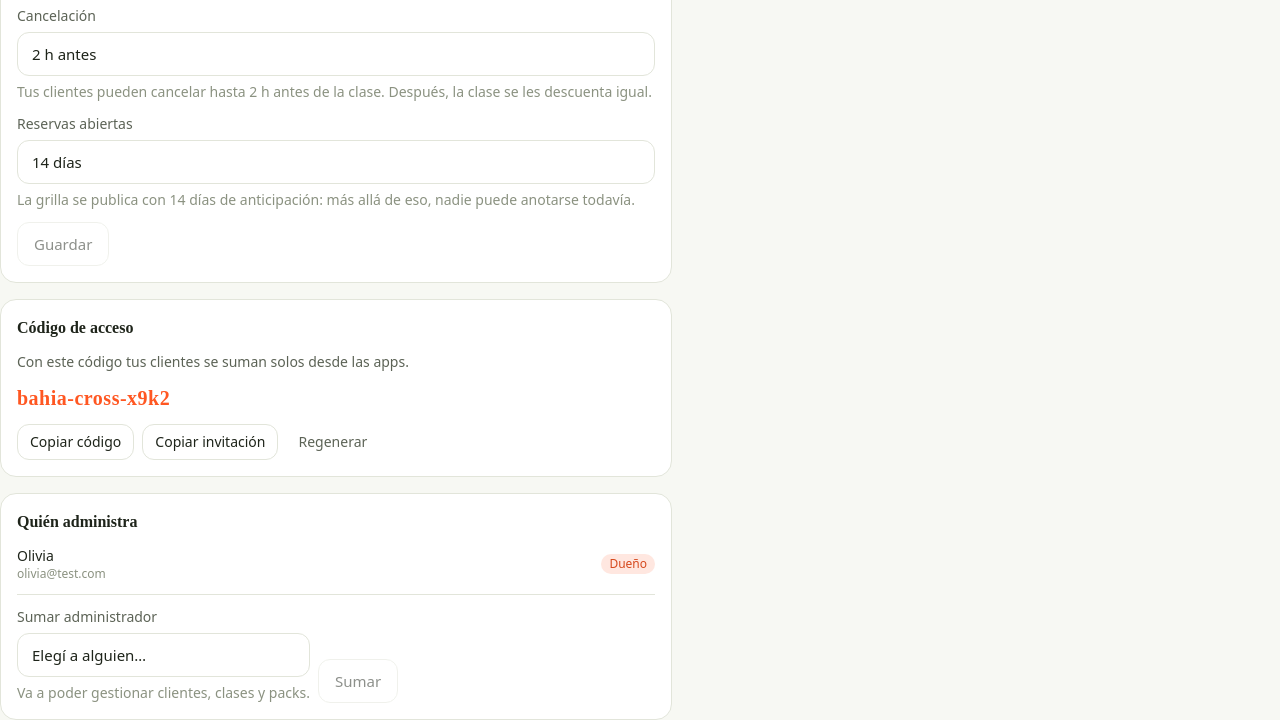
Test case: Settings (F3-11) › regenerar el código avisa que el anterior deja de servir
(page scrolled)
Expected: the text "bahia-cross-x9k2" is shown, top-left (17, 387), bottom-right (170, 409)
What coordinates should you click on to do the following:
click the button "Regenerar"
I would click on:
 (333, 442)
Its box is top-left (286, 424), bottom-right (379, 460).
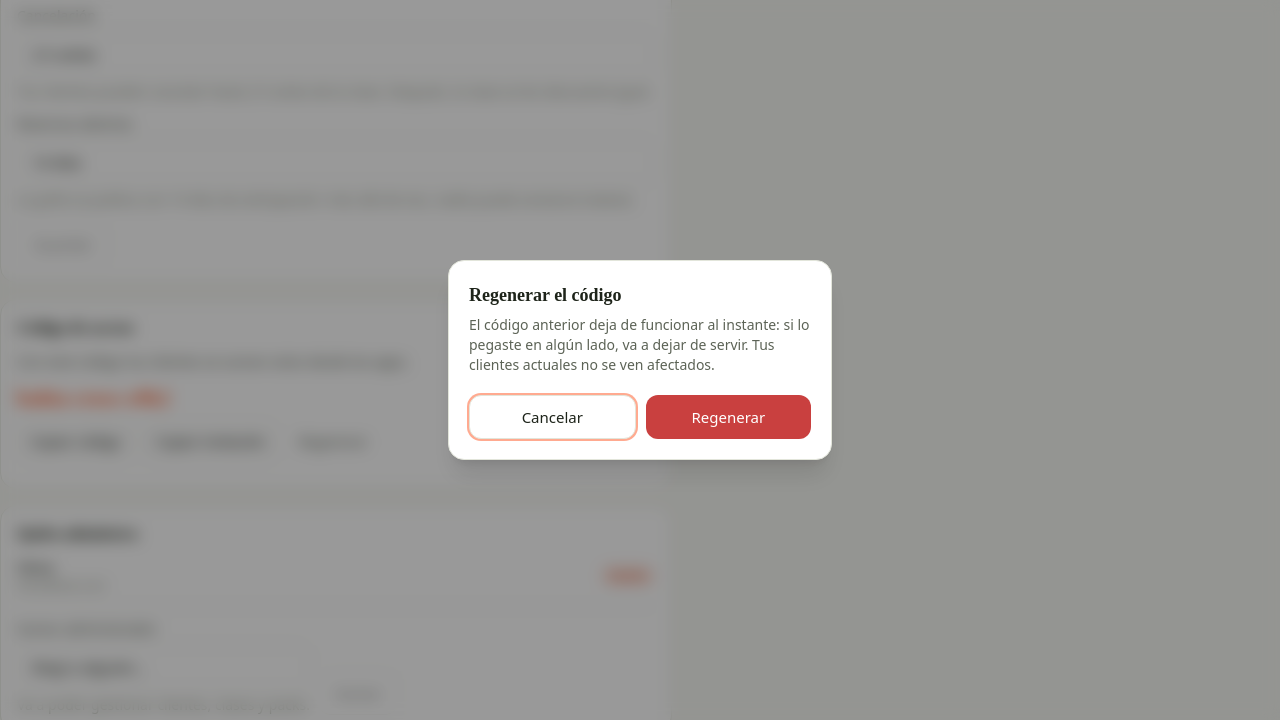
Expected: the text "El código anterior deja de funcionar al instante" is shown, top-left (469, 315), bottom-right (810, 374)
What coordinates should you click on to do the following:
click the button "Regenerar"
I would click on:
 (728, 417)
Its box is top-left (646, 395), bottom-right (811, 439).
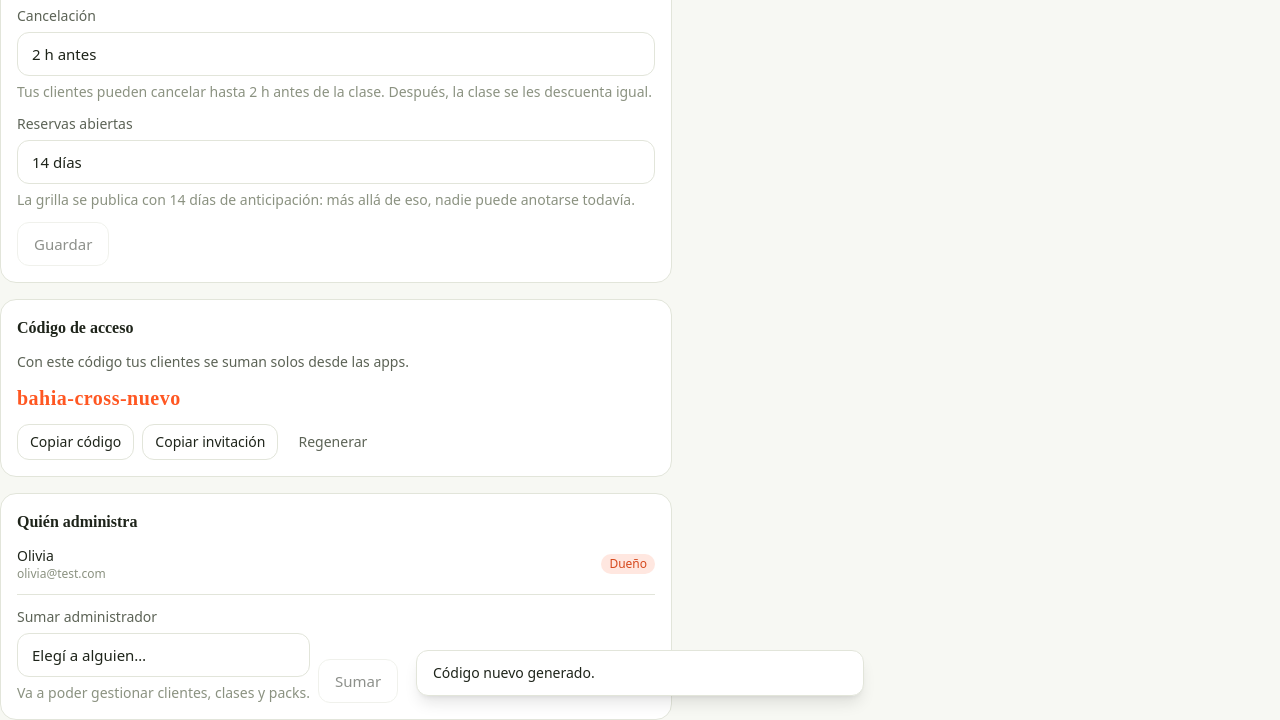
Expected: the text "bahia-cross-nuevo" is shown, top-left (17, 387), bottom-right (181, 409)
